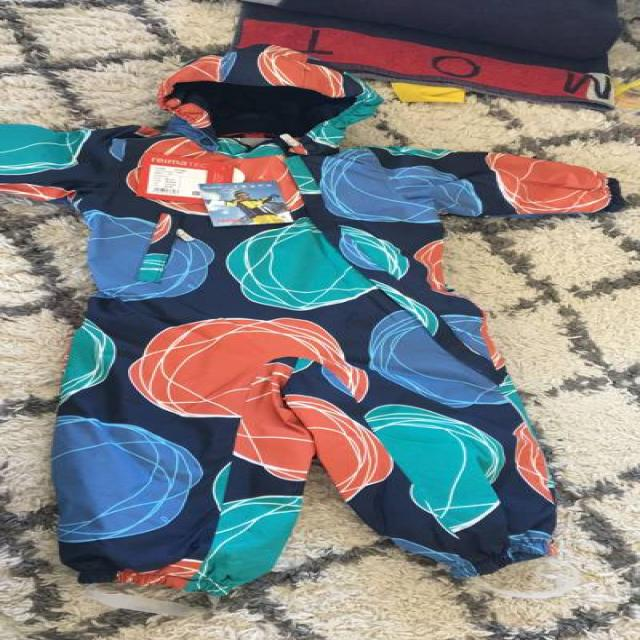Clothes -Biodegradable-: (0, 47, 627, 586)
